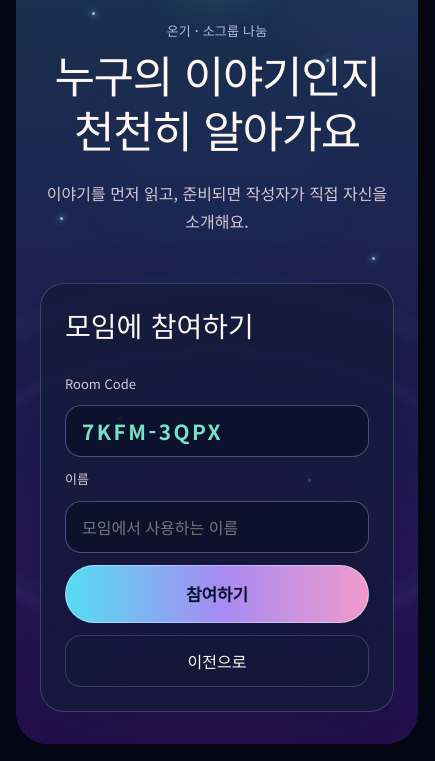
Test case: 익명 자기소개 나눔 › Room Code로 참여하고 질문을 한 단계씩 저장한 뒤 대기 화면으로 이동한다
(page scrolled)
In the field labelled "이름": (217, 527) [65,501,369,553], type "은혜"
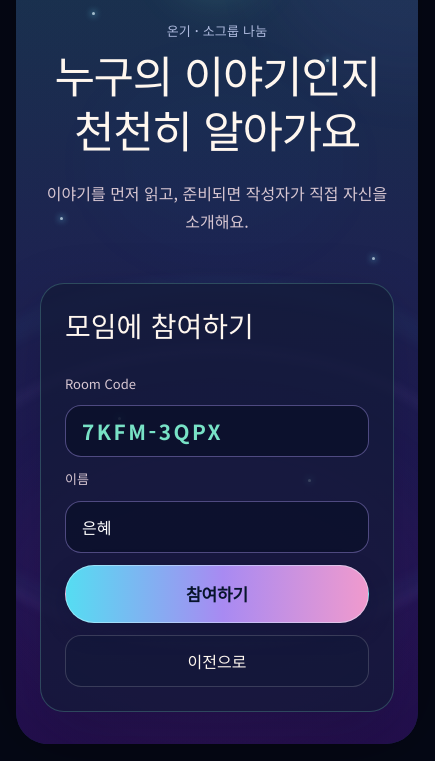
Click the button "참여하기": (217, 594) [65,565,369,623]
(page scrolled)
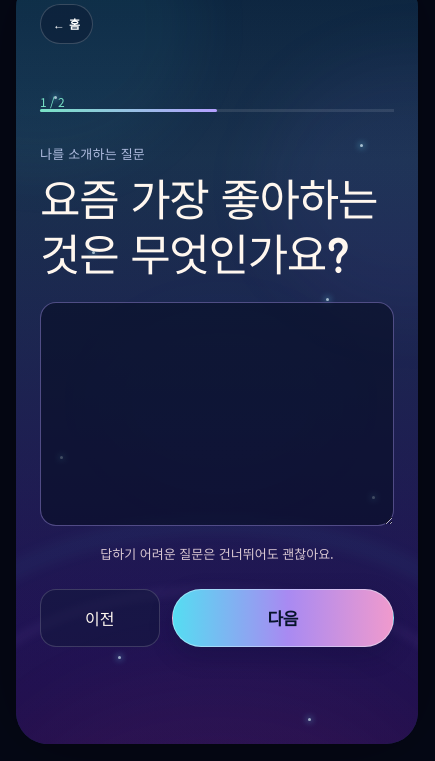
expect the heading "요즘 가장 좋아하는 것은 무엇인가요?" is shown: met, box [40,176,394,286]
In the text box: (217, 414) [40,302,394,526], type "산책"
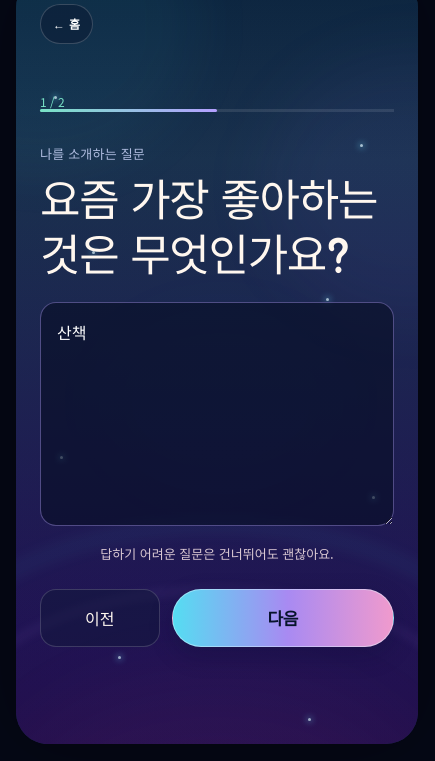
Click the button "다음": (283, 618) [172,589,394,647]
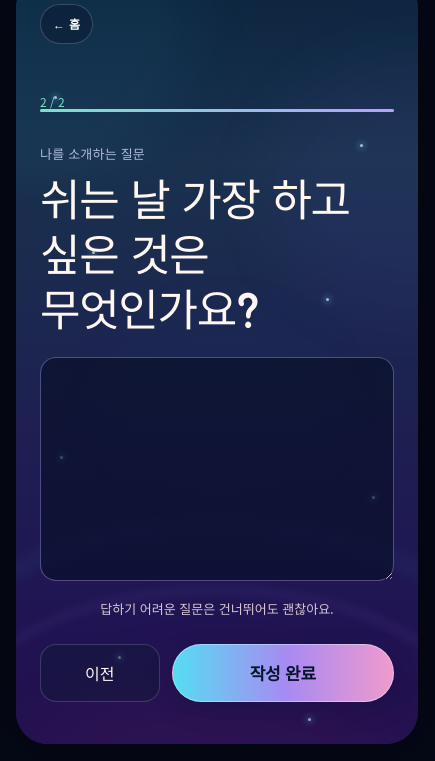
expect the heading "쉬는 날 가장 하고 싶은 것은 무엇인가요?" is shown: met, box [40,176,394,341]
Click the button "작성 완료": (283, 673) [172,644,394,702]
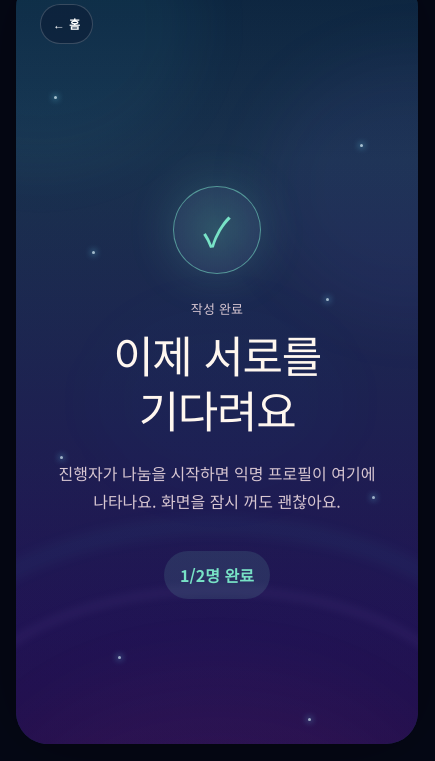
expect the heading "이제 서로를 기다려요" is shown: met, box [113,338,321,437]
